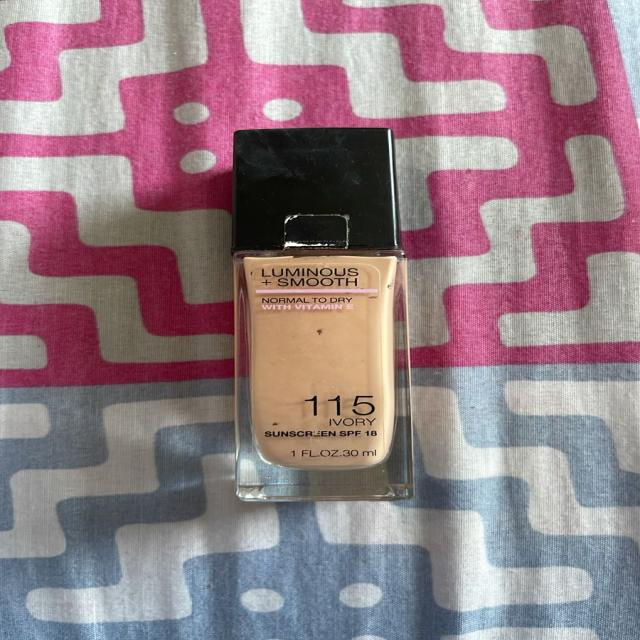foundation: (193, 103, 465, 535)
